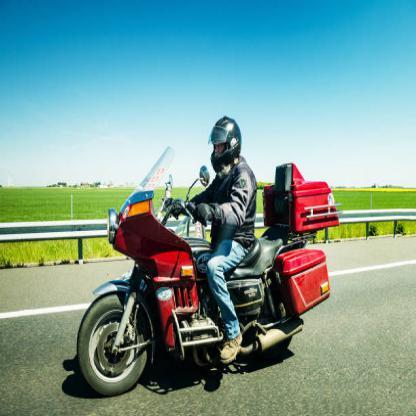Motorcycle: (75, 176, 321, 398)
